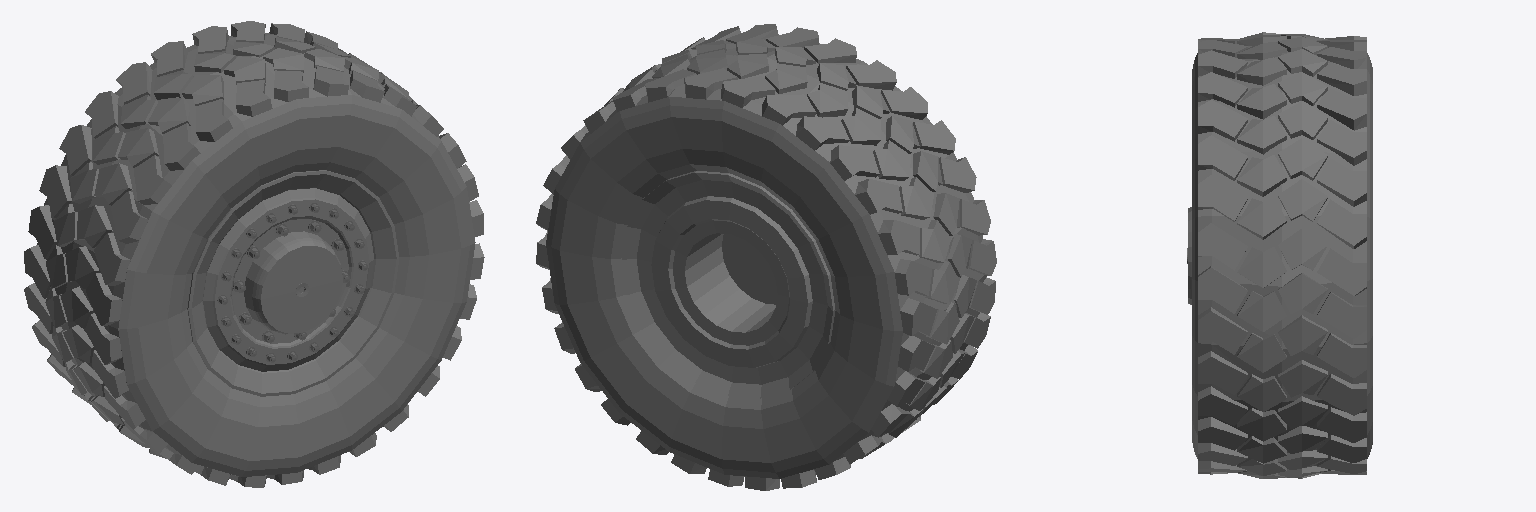
File: MRAPTIREPASS5FINAL.obj
3 views of the same model, side by side, from view 1: azimuth 30°, elevation 25°; view 2: azimuth 150°, elevation 25°; view 3: azimuth 270°, elevation 25° (orthographic).
Parts seen in each view (by area): view 1: pasted__svgMesh13, pCylinder39 pCylinder5, pCylinder37, pCylinder38; view 2: pasted__svgMesh13, pCylinder40; view 3: pasted__svgMesh13.
Boxes of the visible parts, x1=… form: pasted__svgMesh13: x1=24, y1=21, x2=484, y2=487; pCylinder39 pCylinder5: x1=187, y1=170, x2=398, y2=396; pCylinder37: x1=217, y1=203, x2=367, y2=362; pCylinder38: x1=233, y1=220, x2=349, y2=343; pasted__svgMesh13: x1=536, y1=24, x2=996, y2=490; pCylinder40: x1=622, y1=171, x2=835, y2=398; pasted__svgMesh13: x1=1192, y1=32, x2=1372, y2=478.
Bounding box in the file's own units: 3.19 × 3.2 × 1.33.